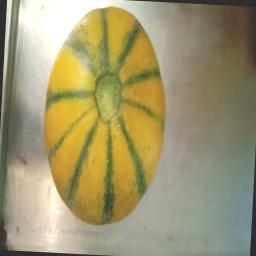Melon Ripe: (28, 2, 181, 234)
